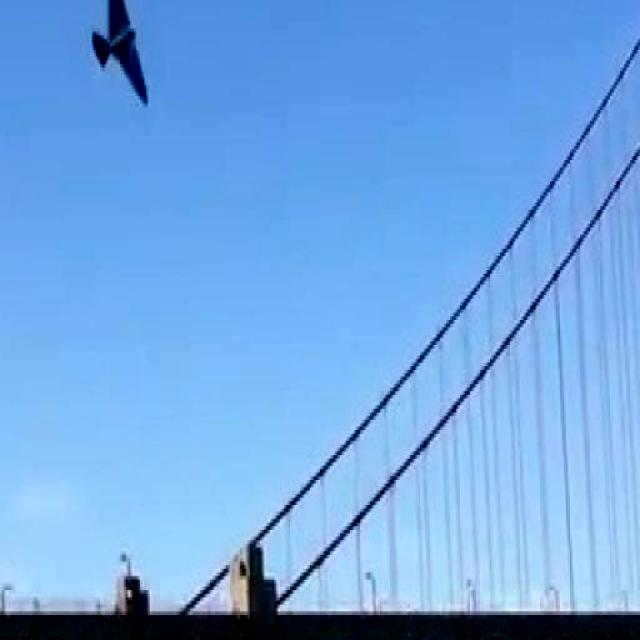airplane: (81, 0, 158, 116)
